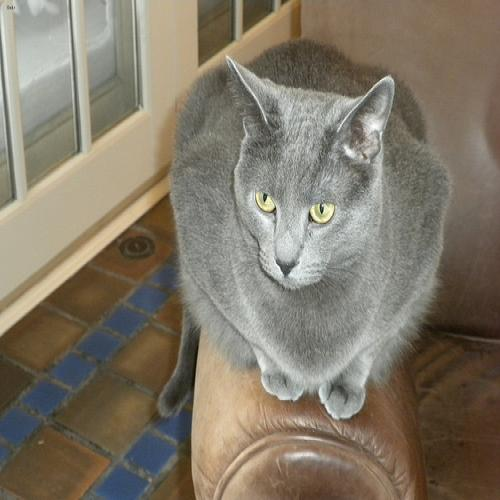rblue: (217, 47, 402, 301)
